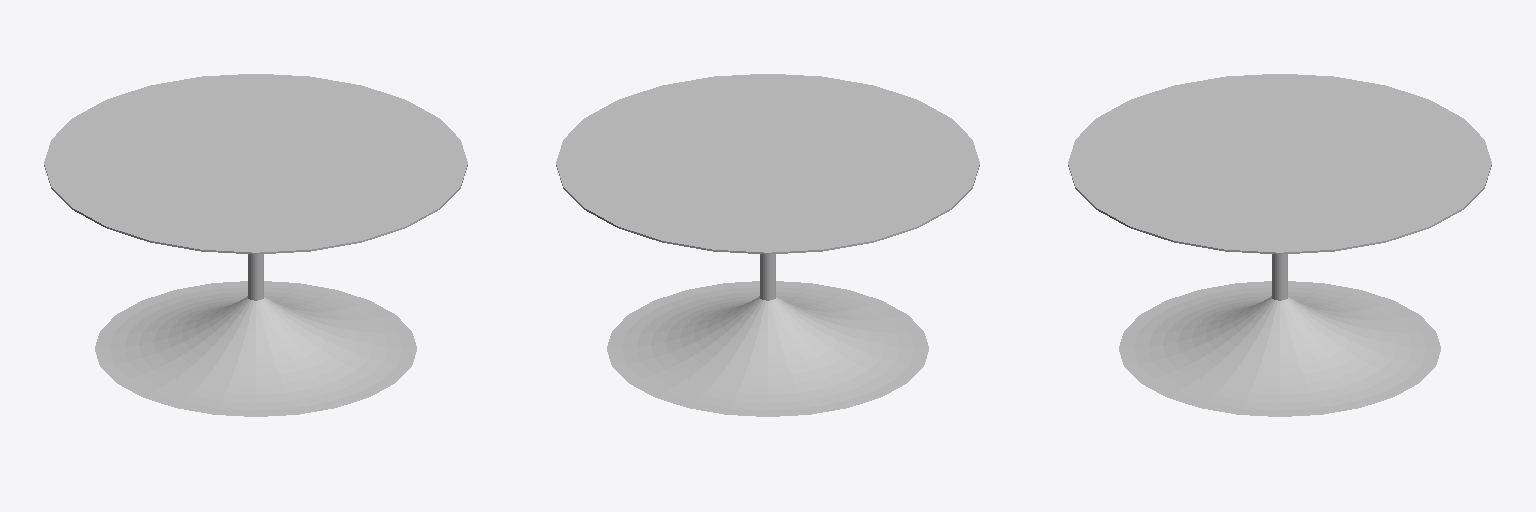
The model's file is tall-table.obj.
3 views of the same model, side by side, from view 1: azimuth 30°, elevation 25°; view 2: azimuth 150°, elevation 25°; view 3: azimuth 270°, elevation 25° (orthographic).
Visible parts, largest first — view 1: Layer0_001; view 2: Layer0_001; view 3: Layer0_001.
Boxes of the visible parts, <box> form: Layer0_001: <box>44,74,467,416</box>; Layer0_001: <box>556,74,979,416</box>; Layer0_001: <box>1068,74,1491,416</box>.
Bounding box in the file's own units: 80.63 × 38.98 × 80.63.